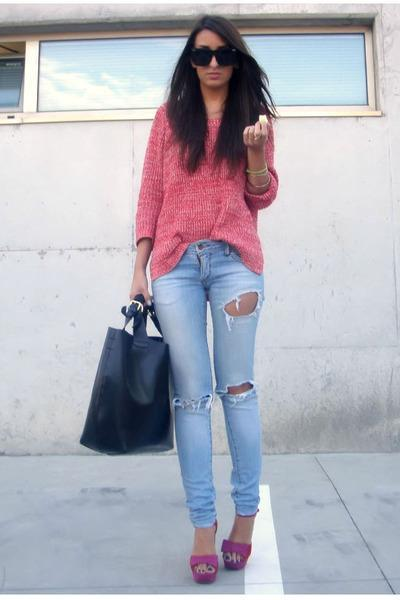bag: (80, 303, 174, 454)
jacket: (135, 108, 278, 275)
pants: (156, 239, 263, 527)
shoe: (190, 534, 251, 585)
sunglass: (182, 36, 248, 75)
